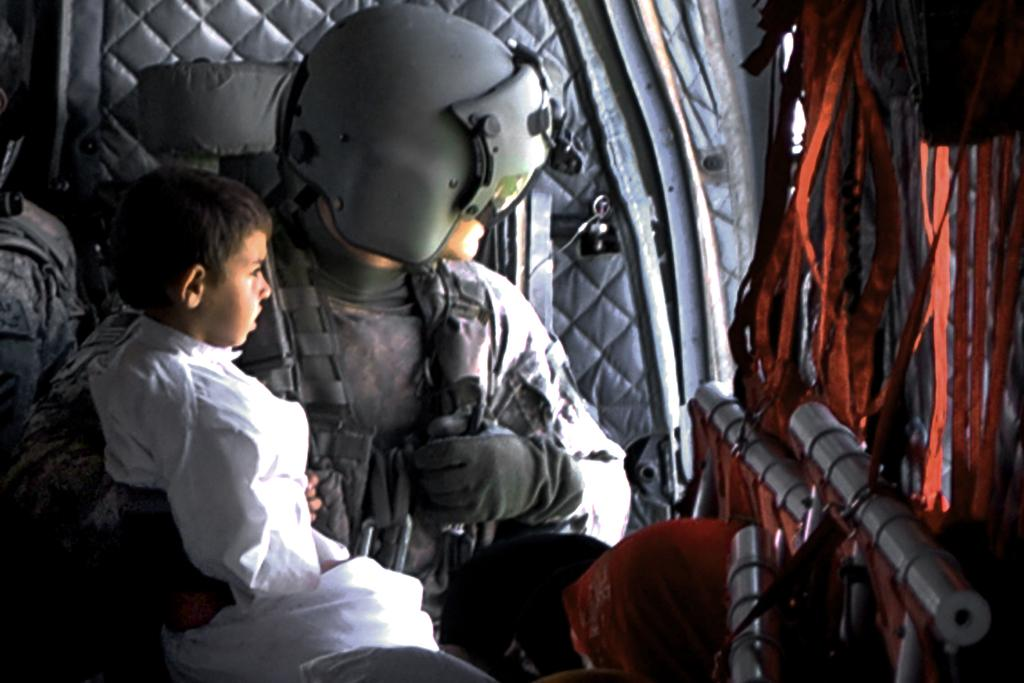helmet: (280, 3, 553, 267)
nohelmet: (102, 161, 276, 354)
